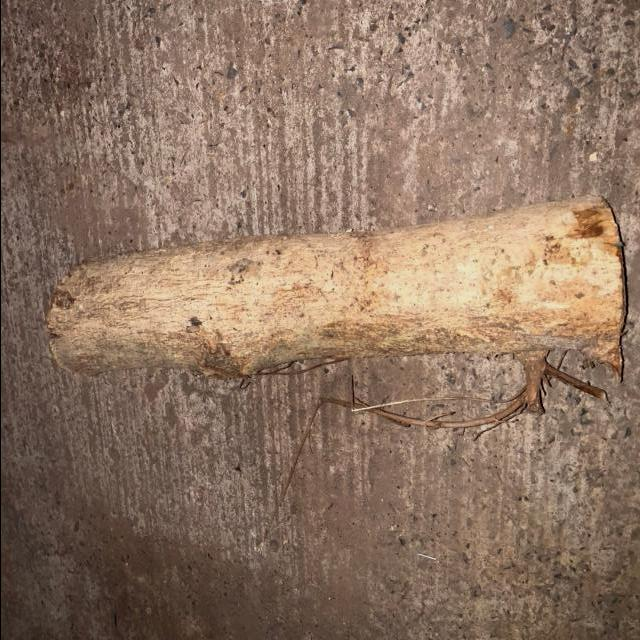General: (44, 191, 629, 436)
Sharps: (349, 348, 608, 438)
